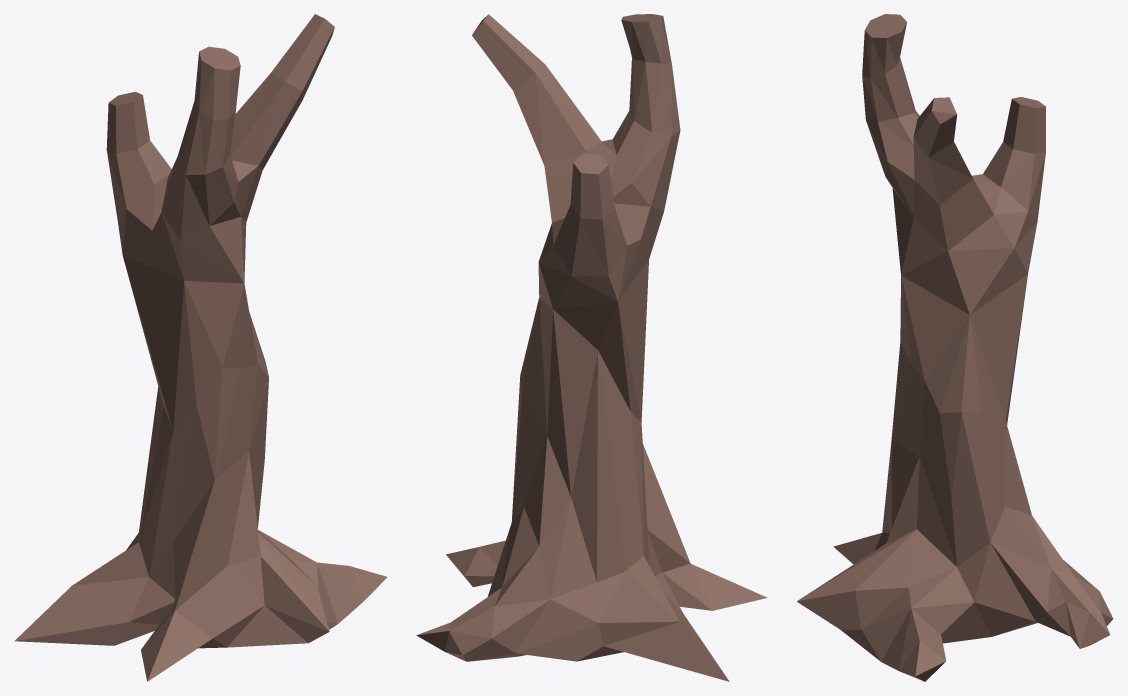
The model's file is fantasy_plant_011.fbx.
The picture shows the model from 3 angles, left to right: view 1: azimuth 30°, elevation 25°; view 2: azimuth 150°, elevation 25°; view 3: azimuth 270°, elevation 25°; orthographic projection.
Parts seen in each view (by area): view 1: fantasy_plant.011; view 2: fantasy_plant.011; view 3: fantasy_plant.011.
Boxes of the visible parts, x1,y1,x2,y2 form: fantasy_plant.011: [14, 14, 387, 681]; fantasy_plant.011: [416, 14, 767, 681]; fantasy_plant.011: [797, 14, 1113, 681].
Size of the model in its own units: 372 by 646 by 315.
Materials: 1 (1 with a texture image).
